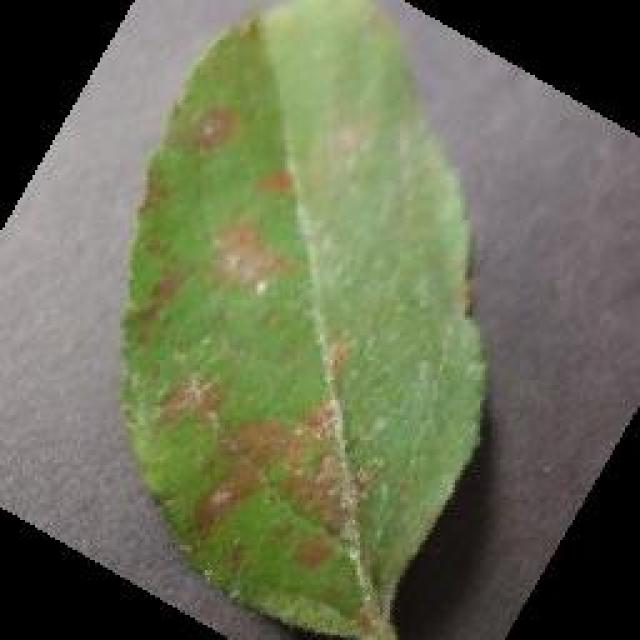apple scab disease: (115, 0, 490, 638)
